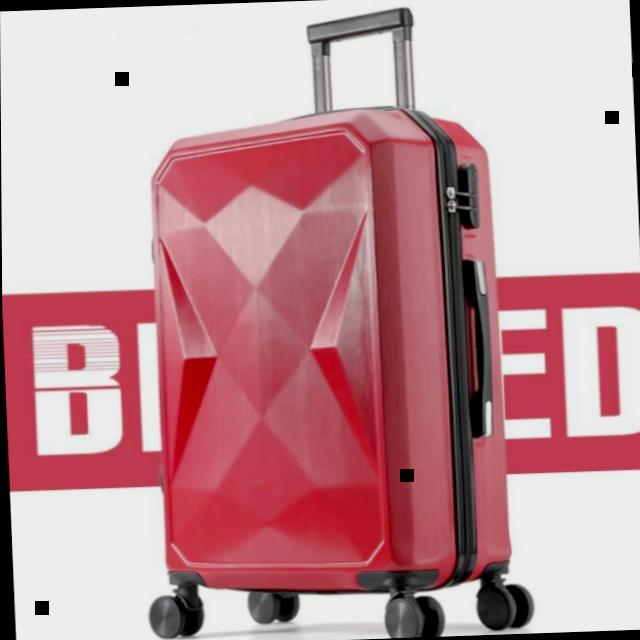luggage: (139, 97, 515, 607)
